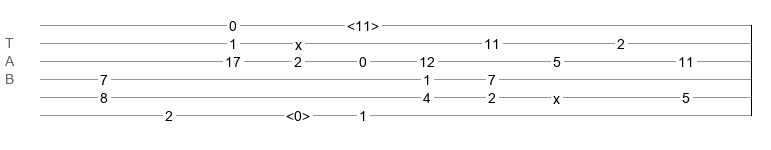0: (229, 18, 237, 28), (359, 54, 367, 64)
1: (229, 36, 237, 46), (359, 108, 367, 118), (423, 72, 431, 82)
11: (484, 36, 500, 46), (678, 54, 694, 64)
12: (419, 54, 435, 64)
17: (225, 54, 241, 64)
2: (165, 108, 173, 118), (294, 54, 302, 64), (488, 90, 496, 100), (617, 36, 625, 46)
4: (423, 90, 431, 100)
5: (553, 54, 561, 64), (682, 90, 690, 100)
7: (100, 72, 108, 82), (488, 72, 496, 82)
8: (100, 90, 108, 100)
harmonic: (347, 18, 379, 28), (286, 108, 310, 118)
x: (295, 37, 302, 45), (553, 91, 560, 99)
